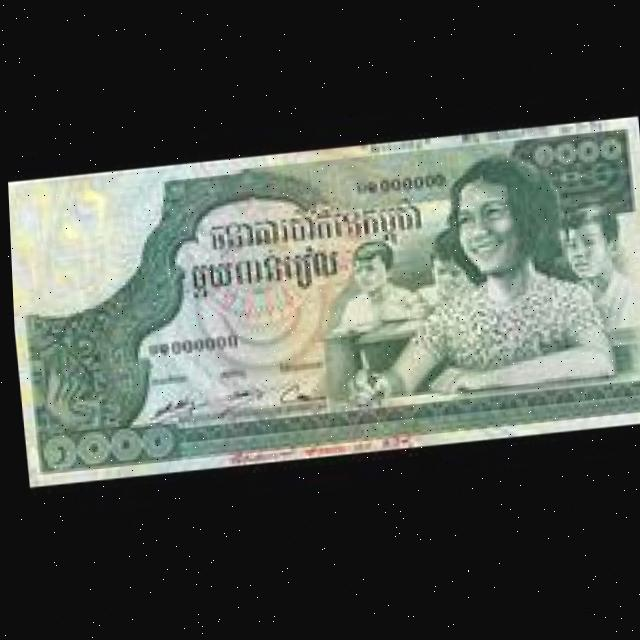banknote: (4, 100, 640, 510)
